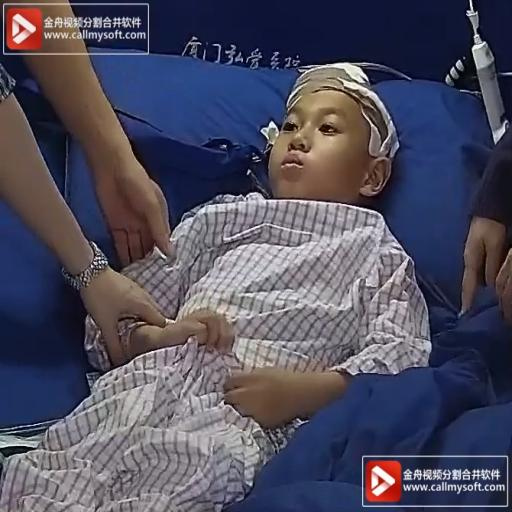Seizure: (270, 60, 405, 205)
